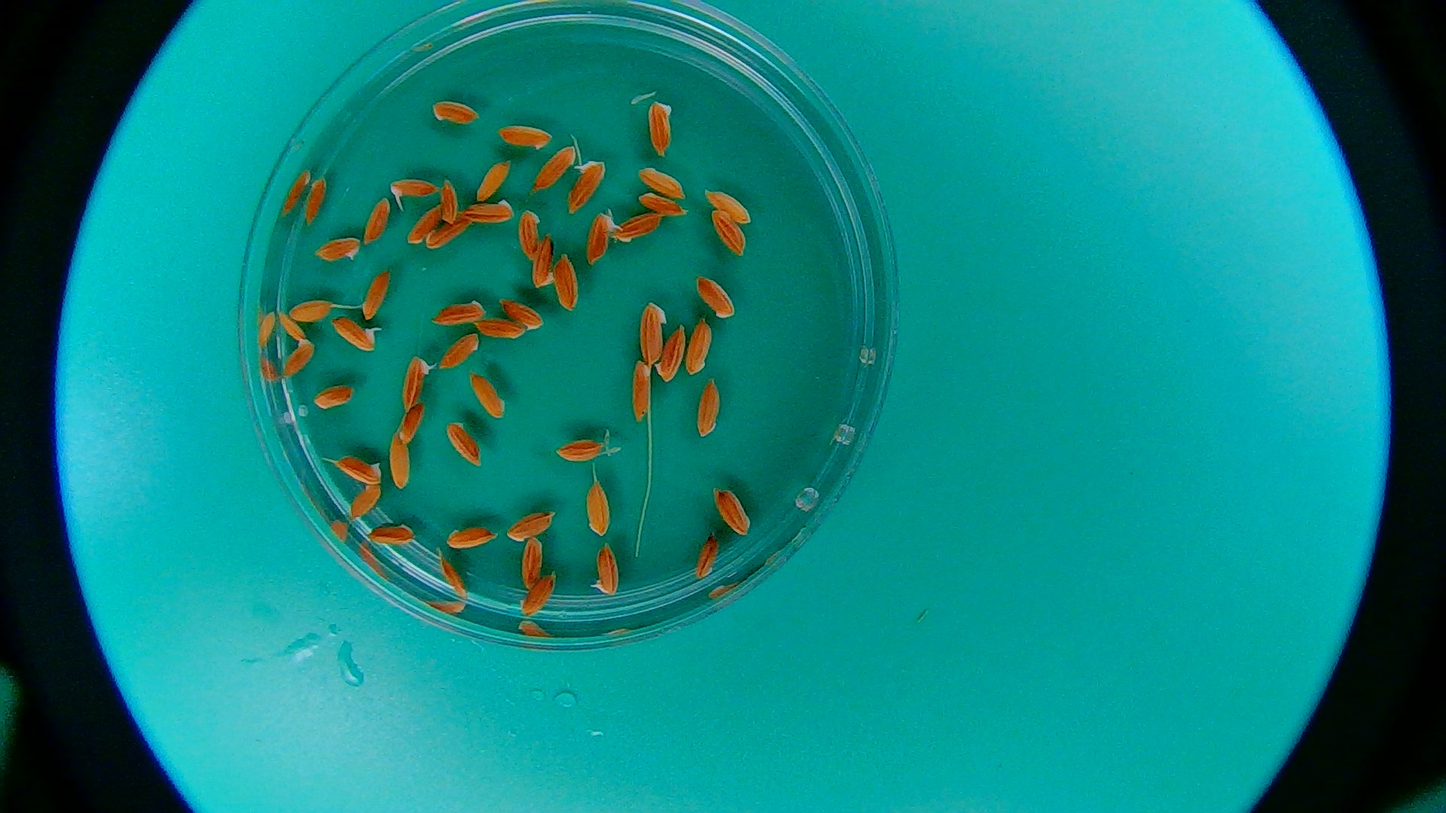no: (531, 143, 578, 194), (710, 481, 752, 537), (702, 183, 755, 227), (694, 270, 740, 320), (708, 208, 752, 257), (352, 266, 391, 321), (637, 300, 669, 366), (496, 295, 546, 337), (443, 416, 484, 467), (516, 571, 557, 622), (685, 528, 721, 585), (654, 322, 686, 386), (465, 371, 507, 419), (433, 550, 470, 604), (329, 452, 388, 485), (429, 297, 488, 330), (554, 250, 584, 314), (611, 211, 663, 247), (645, 99, 675, 161), (496, 121, 554, 153), (438, 331, 482, 373), (694, 379, 725, 438), (631, 186, 688, 218), (475, 156, 511, 206), (504, 508, 555, 543), (404, 204, 444, 247), (528, 233, 557, 291), (685, 315, 712, 377), (639, 166, 687, 199), (389, 430, 414, 493), (426, 218, 473, 251), (362, 196, 393, 246), (585, 481, 613, 536), (629, 357, 651, 425), (281, 336, 314, 380), (311, 380, 355, 413), (458, 199, 516, 224), (429, 99, 478, 128), (346, 483, 383, 521), (366, 519, 416, 547), (552, 440, 607, 465), (520, 535, 544, 592), (304, 176, 328, 230), (398, 402, 425, 449), (517, 208, 541, 260), (473, 318, 526, 341), (313, 236, 361, 261), (444, 525, 496, 548), (278, 309, 310, 344), (287, 297, 331, 322), (438, 176, 459, 225)
yes: (331, 315, 383, 354), (401, 354, 435, 413), (568, 161, 606, 213), (584, 209, 617, 268), (589, 541, 621, 597), (386, 178, 441, 206)
